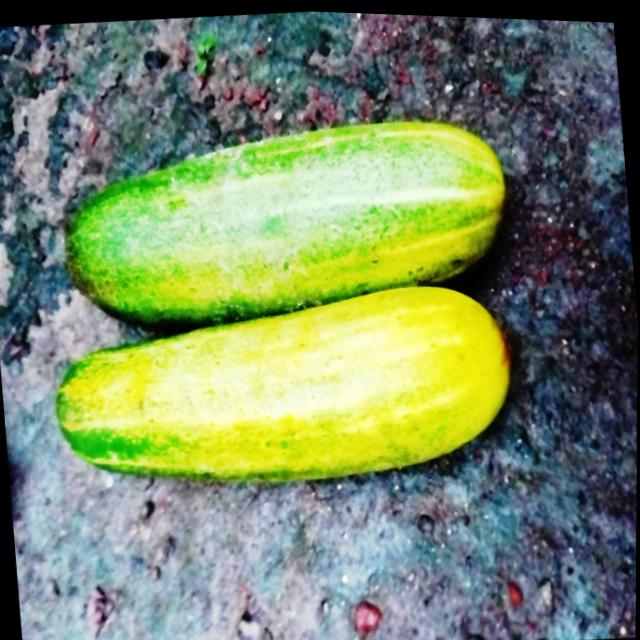Fresh-Cucumber: (53, 96, 515, 349), (48, 262, 520, 505)
